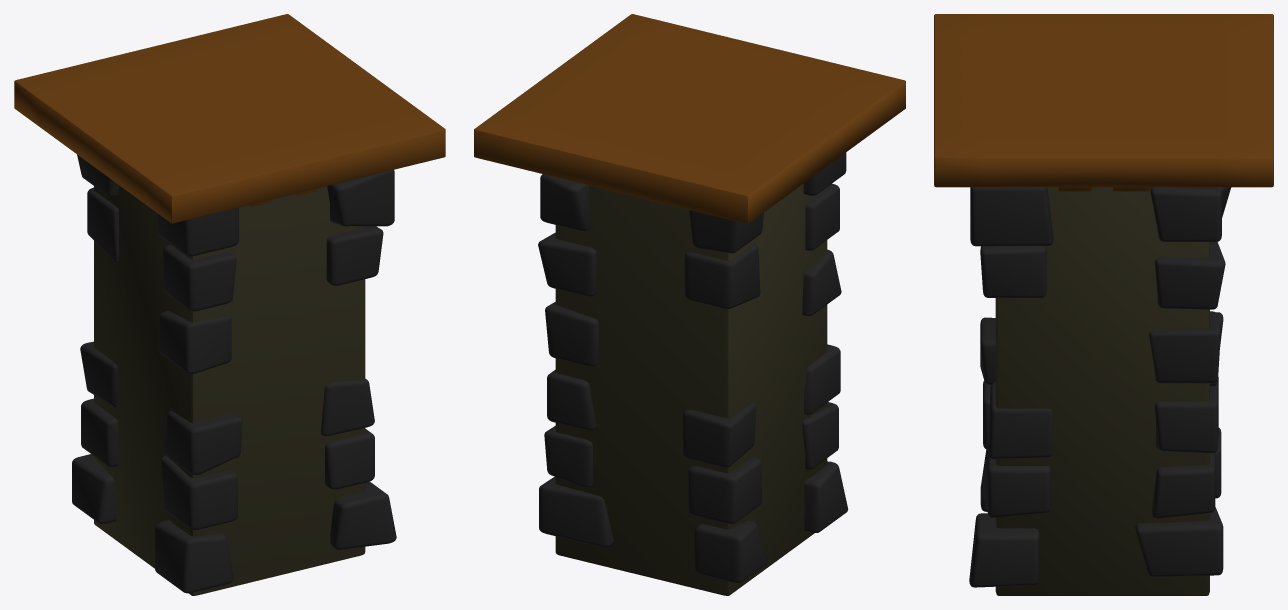
Rendered from TowerMainBase.fbx.
3 views of the same model, side by side, from view 1: azimuth 30°, elevation 25°; view 2: azimuth 150°, elevation 25°; view 3: azimuth 270°, elevation 25° (orthographic). The views are drawn at different scales.
Visible parts, largest first — view 1: tower_main_base; view 2: tower_main_base; view 3: tower_main_base.
Boxes of the visible parts, x1,y1,x2,y2 form: tower_main_base: [14, 14, 445, 595]; tower_main_base: [474, 14, 905, 595]; tower_main_base: [934, 14, 1273, 595].
Bounding box in the file's own units: 668 × 1010 × 666.
